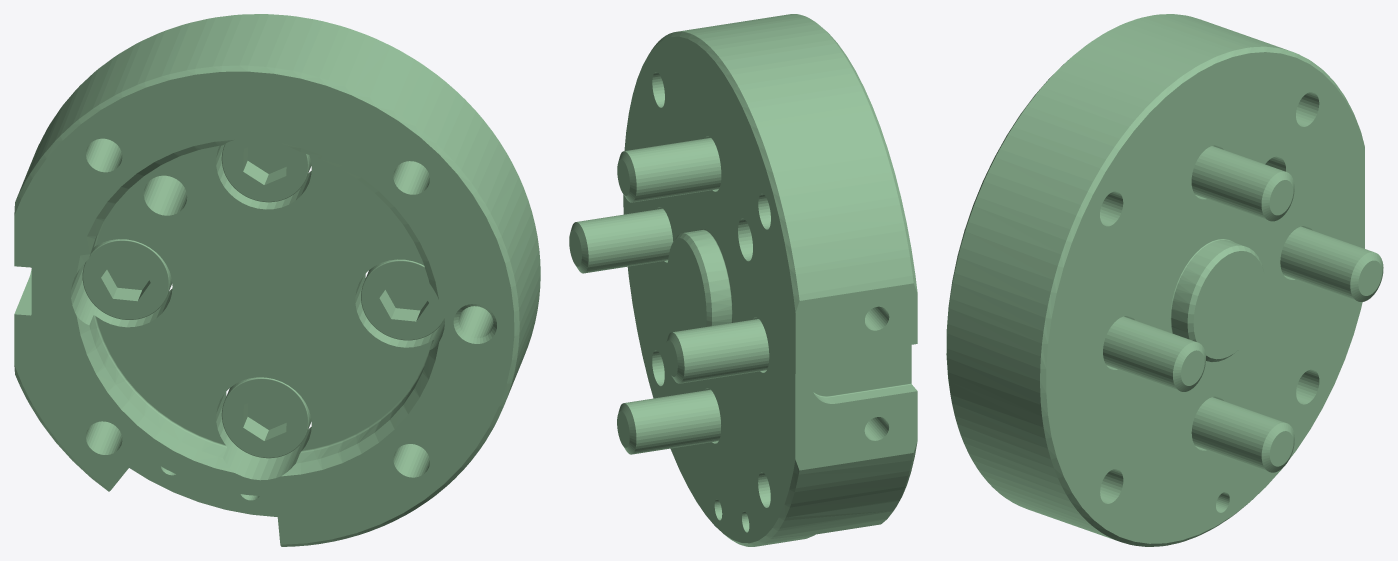
File: case-02_lib00004.glb
3 renders of one model, left to right at view 1: azimuth 30°, elevation 25°; view 2: azimuth 150°, elevation 25°; view 3: azimuth 270°, elevation 25°, orthographic.
Parts seen in each view (by area): view 1: lib00004; view 2: lib00004; view 3: lib00004.
Boxes of the visible parts, bbox=[...] form: lib00004: bbox=[14, 14, 540, 546]; lib00004: bbox=[569, 14, 917, 546]; lib00004: bbox=[946, 14, 1383, 546].
Bounding box in the file's own units: 70.02 × 78 × 65.63.
